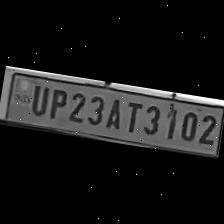0: (175, 106, 199, 142)
1: (160, 102, 180, 140)
2: (64, 86, 88, 124), (195, 108, 219, 146)
3: (140, 99, 164, 138), (83, 90, 106, 127)
A: (102, 94, 125, 131)
P: (44, 83, 70, 122)
T: (120, 96, 144, 134)
U: (26, 80, 48, 116)
